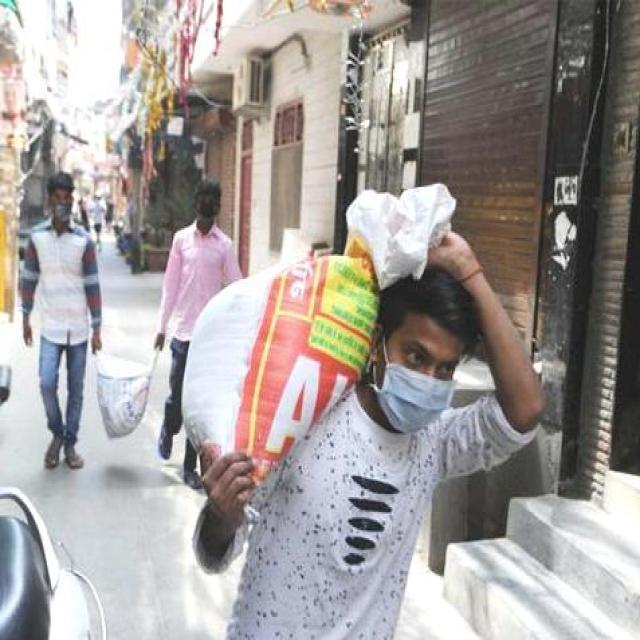hairnet: (47, 172, 75, 225)
